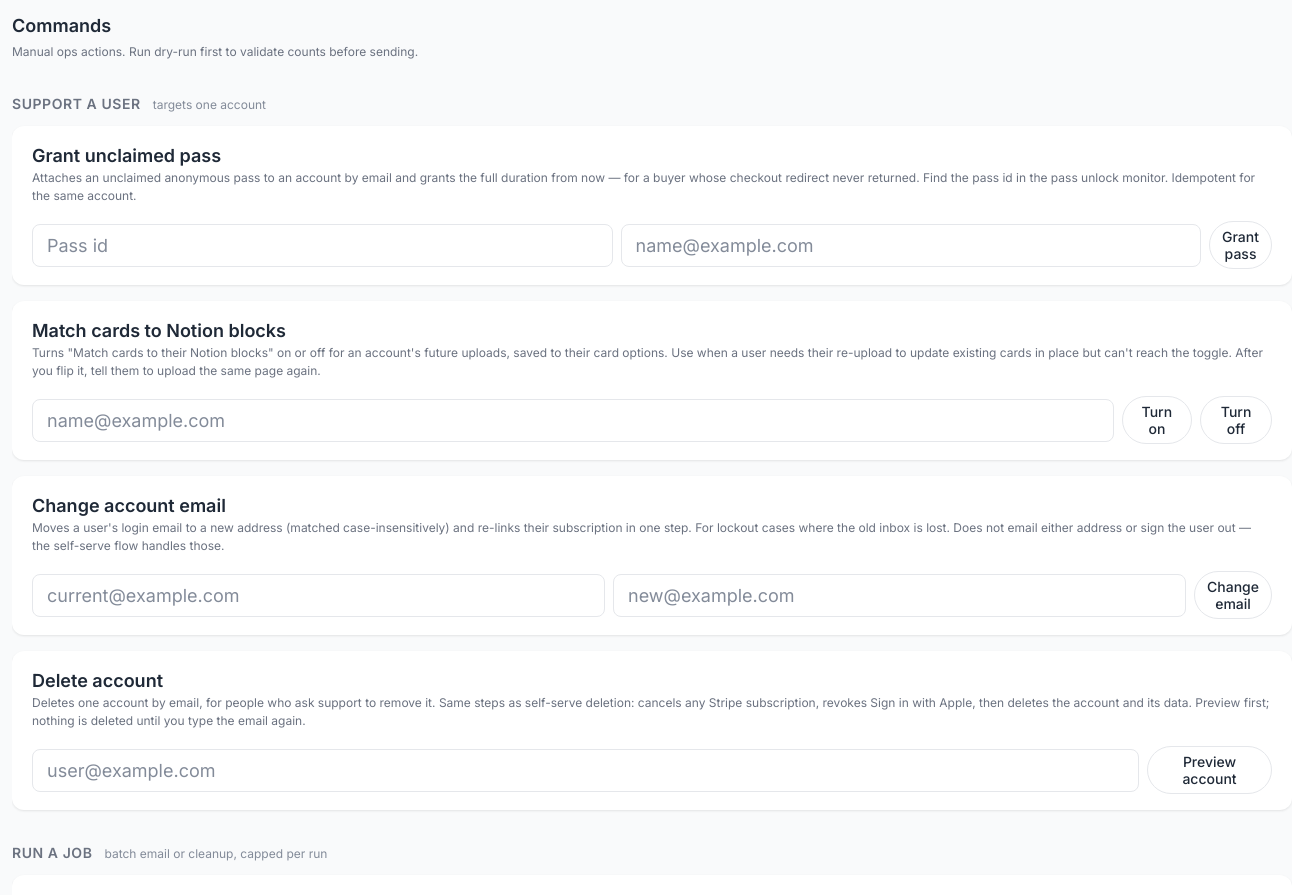
Test: CommandsTab — match cards to Notion blocks › turns the option on for the typed email and tells support what to say
The width and height of the screenshot is (1292, 895).
In the field named "Match cards account email": (573, 420) [32,398,1114,442], type "learner@example.com"
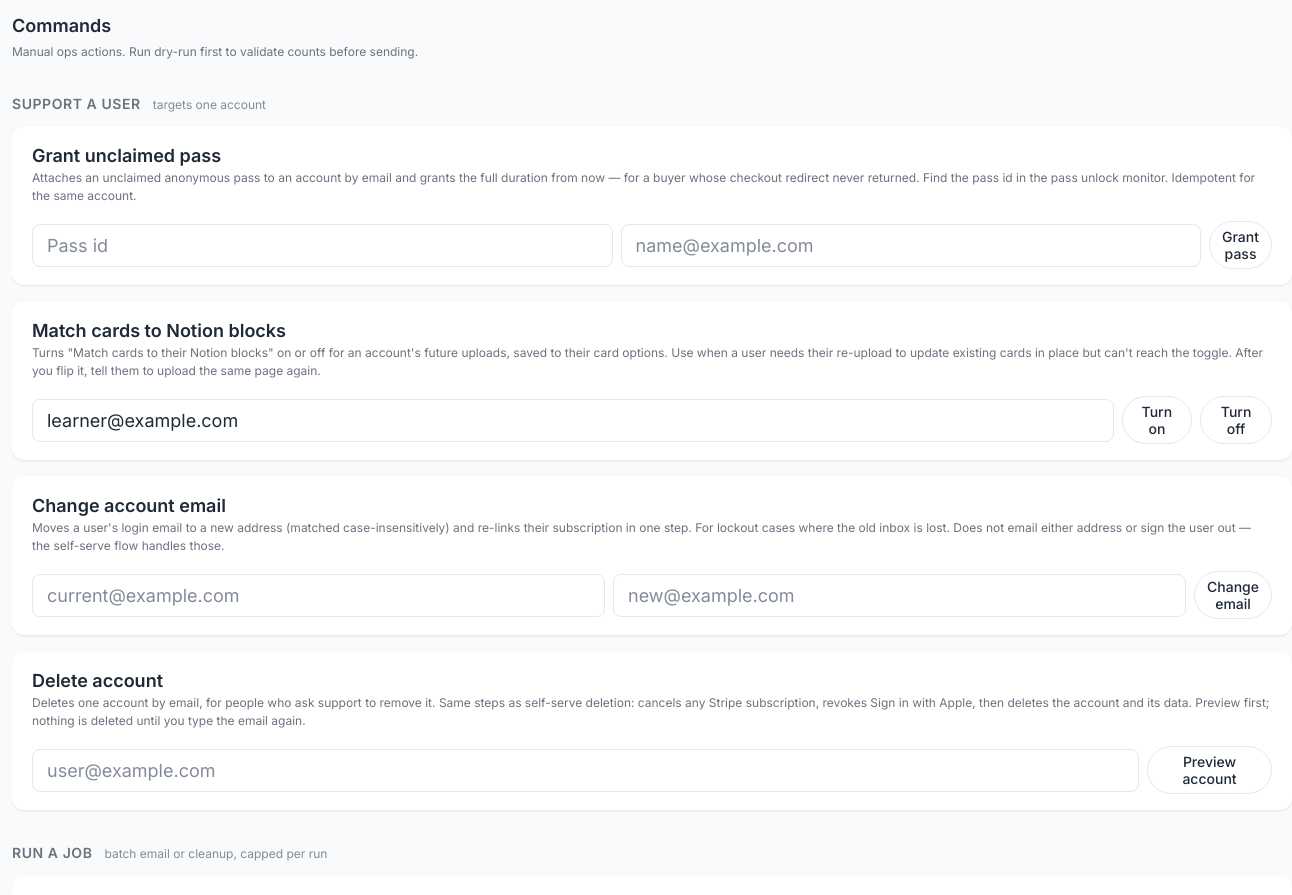
Click the button "Turn on": click(1157, 420) [1122,396,1192,444]
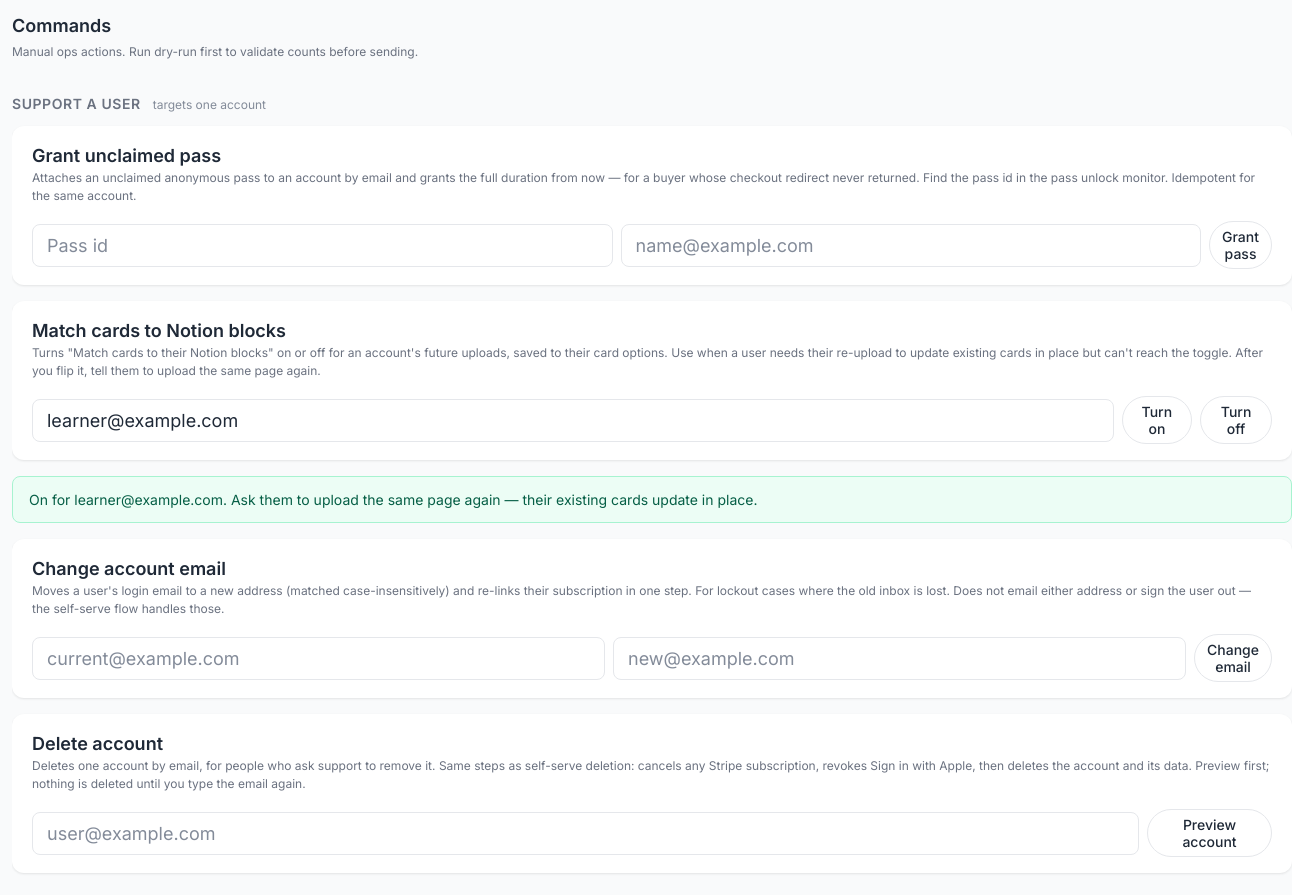
expect the text "On for learner@example.com. Ask them to upload the same page again — their existing cards update in place." is shown: met, box [29,491,758,508]
